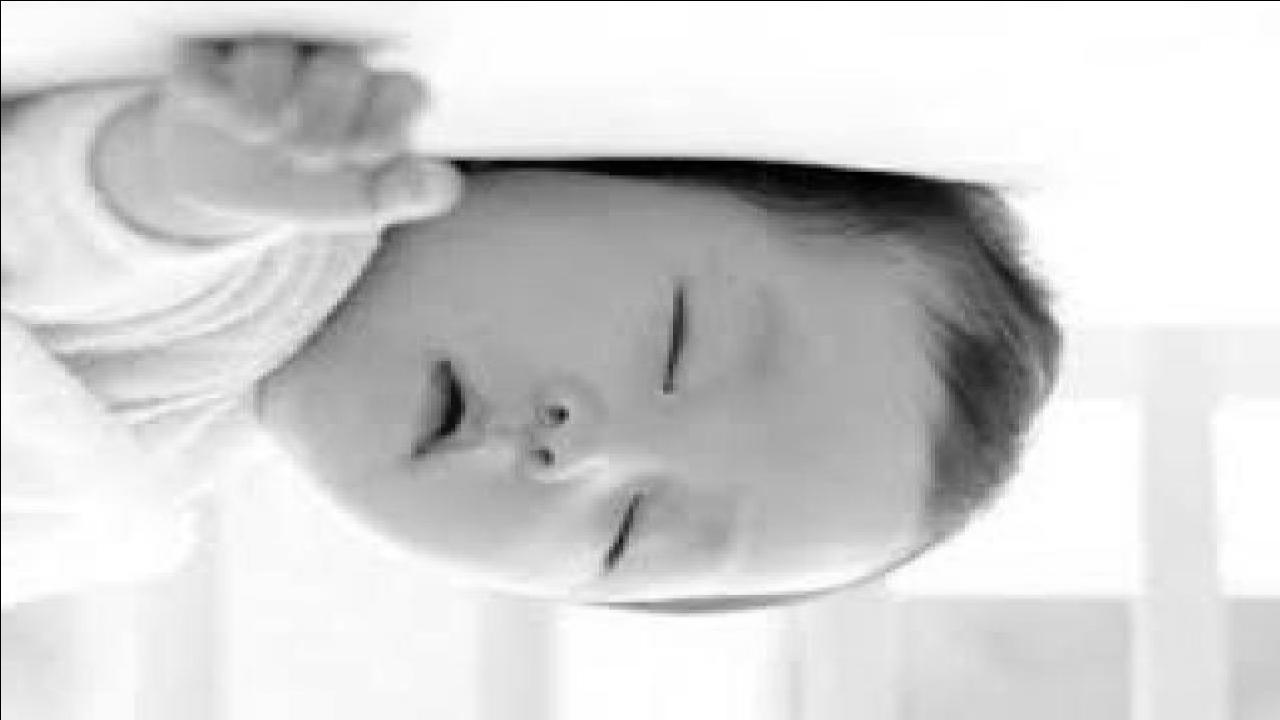hand: (143, 31, 469, 231)
